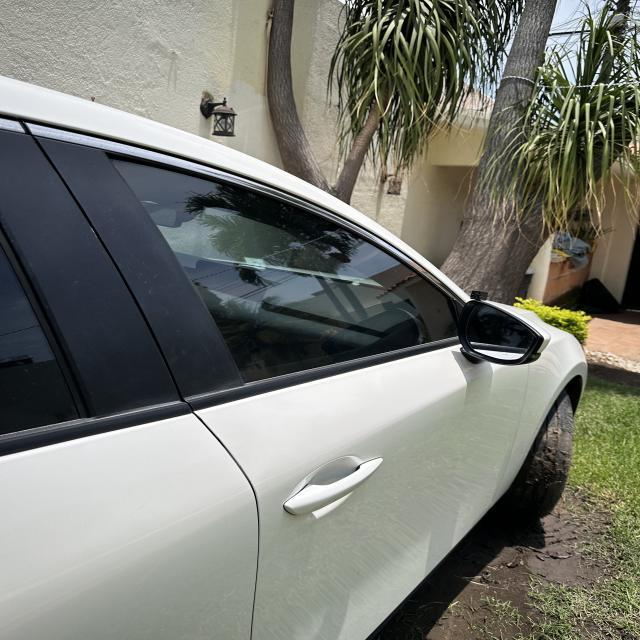hidden camera: (474, 293, 478, 296)
